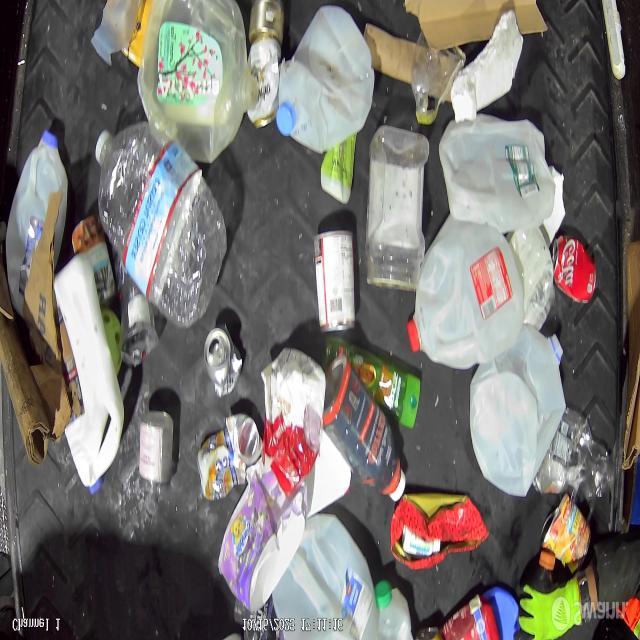can: (200, 412, 262, 502), (314, 229, 356, 335), (541, 493, 593, 577), (247, 36, 280, 133), (552, 236, 597, 305), (205, 324, 241, 397)
milk_jug: (52, 242, 124, 498), (411, 227, 525, 369), (474, 335, 567, 495), (280, 0, 375, 155), (271, 511, 379, 640), (437, 112, 554, 224), (5, 129, 69, 318)
non_white_jug: (136, 0, 258, 166)
plastic_bottle: (95, 120, 229, 330)
